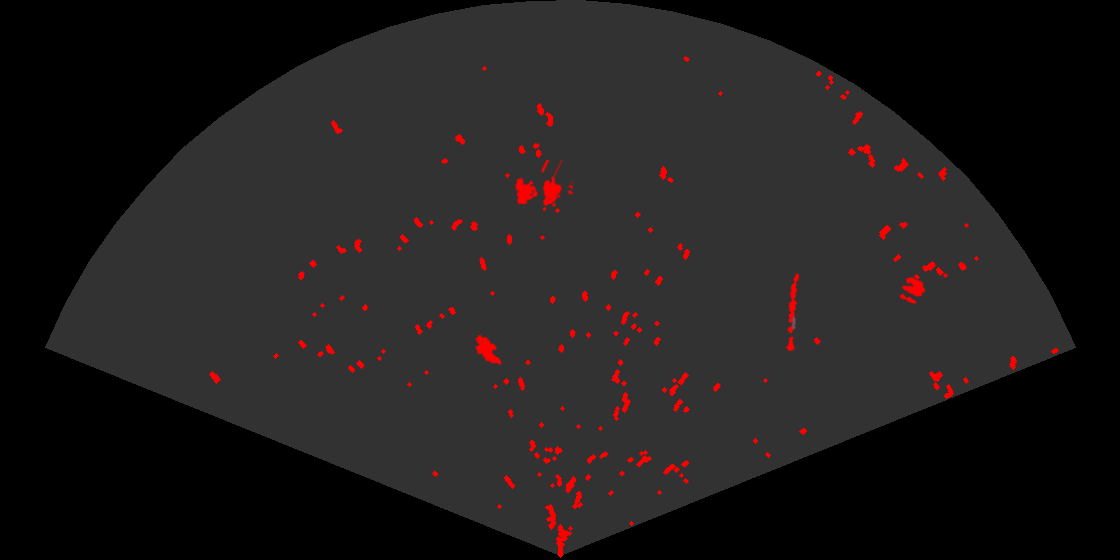AUV: (474, 333, 503, 366)
ball: (898, 275, 927, 305)
cage: (514, 160, 573, 213)
chain: (784, 271, 801, 351)
